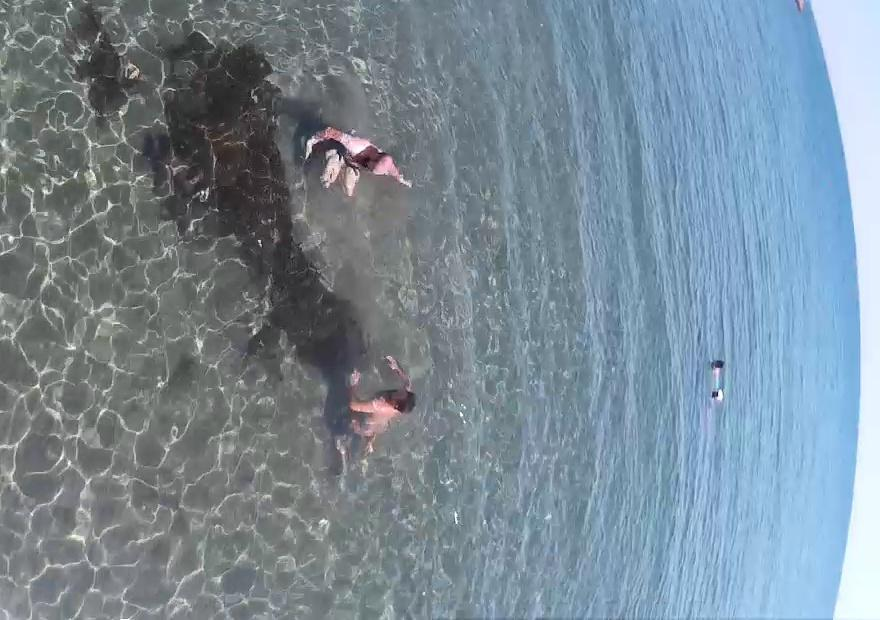swimmer: (288, 114, 410, 213), (334, 346, 423, 464), (712, 387, 728, 417), (708, 353, 728, 374)
